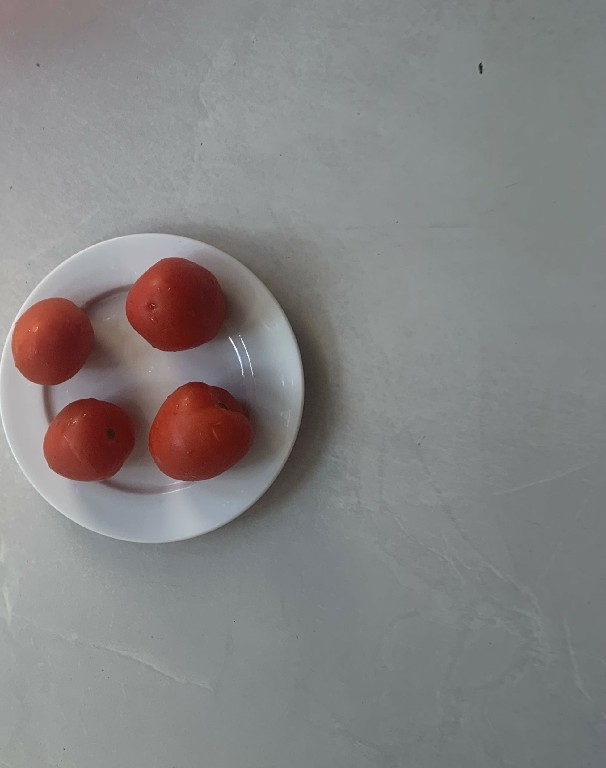OK: (120, 254, 233, 353), (147, 379, 250, 485), (40, 399, 133, 479), (11, 297, 95, 384)
